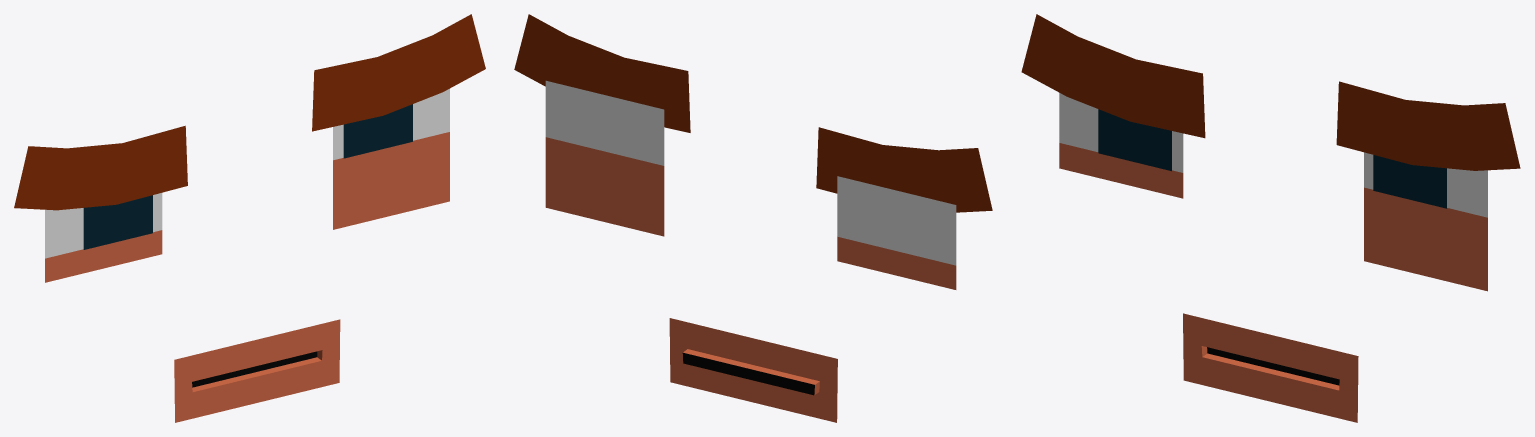
Rendered from Face Male 05.FBX.
3 views of the same model, side by side, from view 1: azimuth 30°, elevation 25°; view 2: azimuth 150°, elevation 25°; view 3: azimuth 330°, elevation 25° (orthographic). The views are drawn at different scales.
Parts seen in each view (by area): view 1: Face Male 05; view 2: Face Male 05; view 3: Face Male 05.
Boxes of the visible parts, x1,y1,x2,y2 form: Face Male 05: [14, 14, 485, 422]; Face Male 05: [514, 14, 992, 422]; Face Male 05: [1021, 14, 1520, 422].
Size of the model in its own units: 43.69 by 29.45 by 1.01.
1 material, 1 textured.
